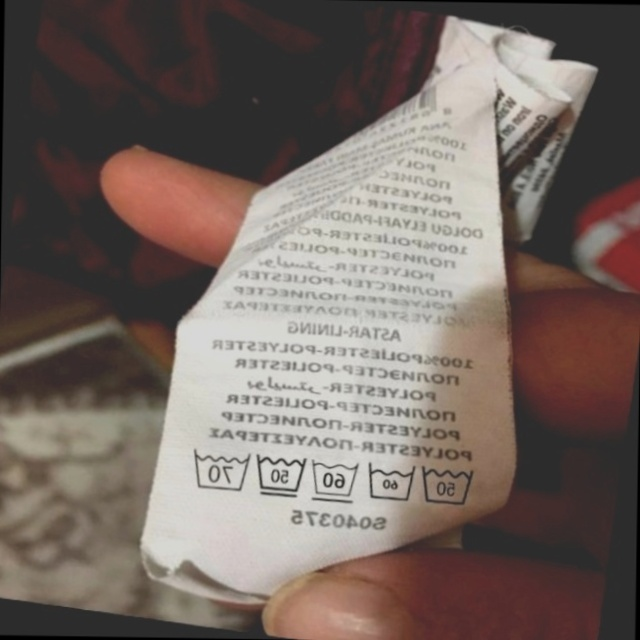50C: (413, 455, 482, 514), (248, 447, 310, 504)
60C: (303, 452, 362, 507), (359, 455, 419, 509)
70C: (182, 443, 252, 497)
